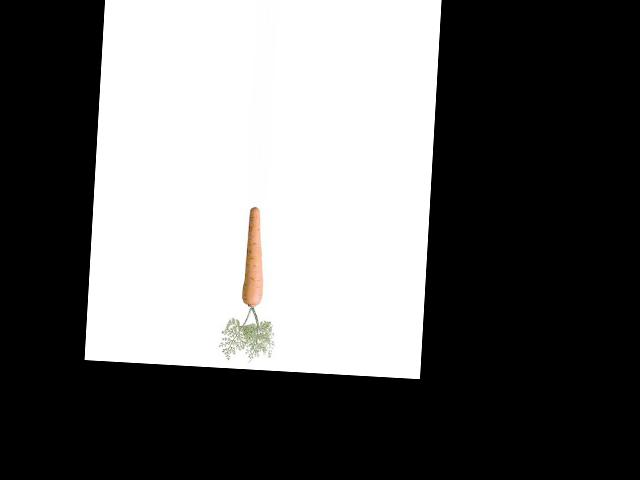carrot: (235, 205, 273, 309)
